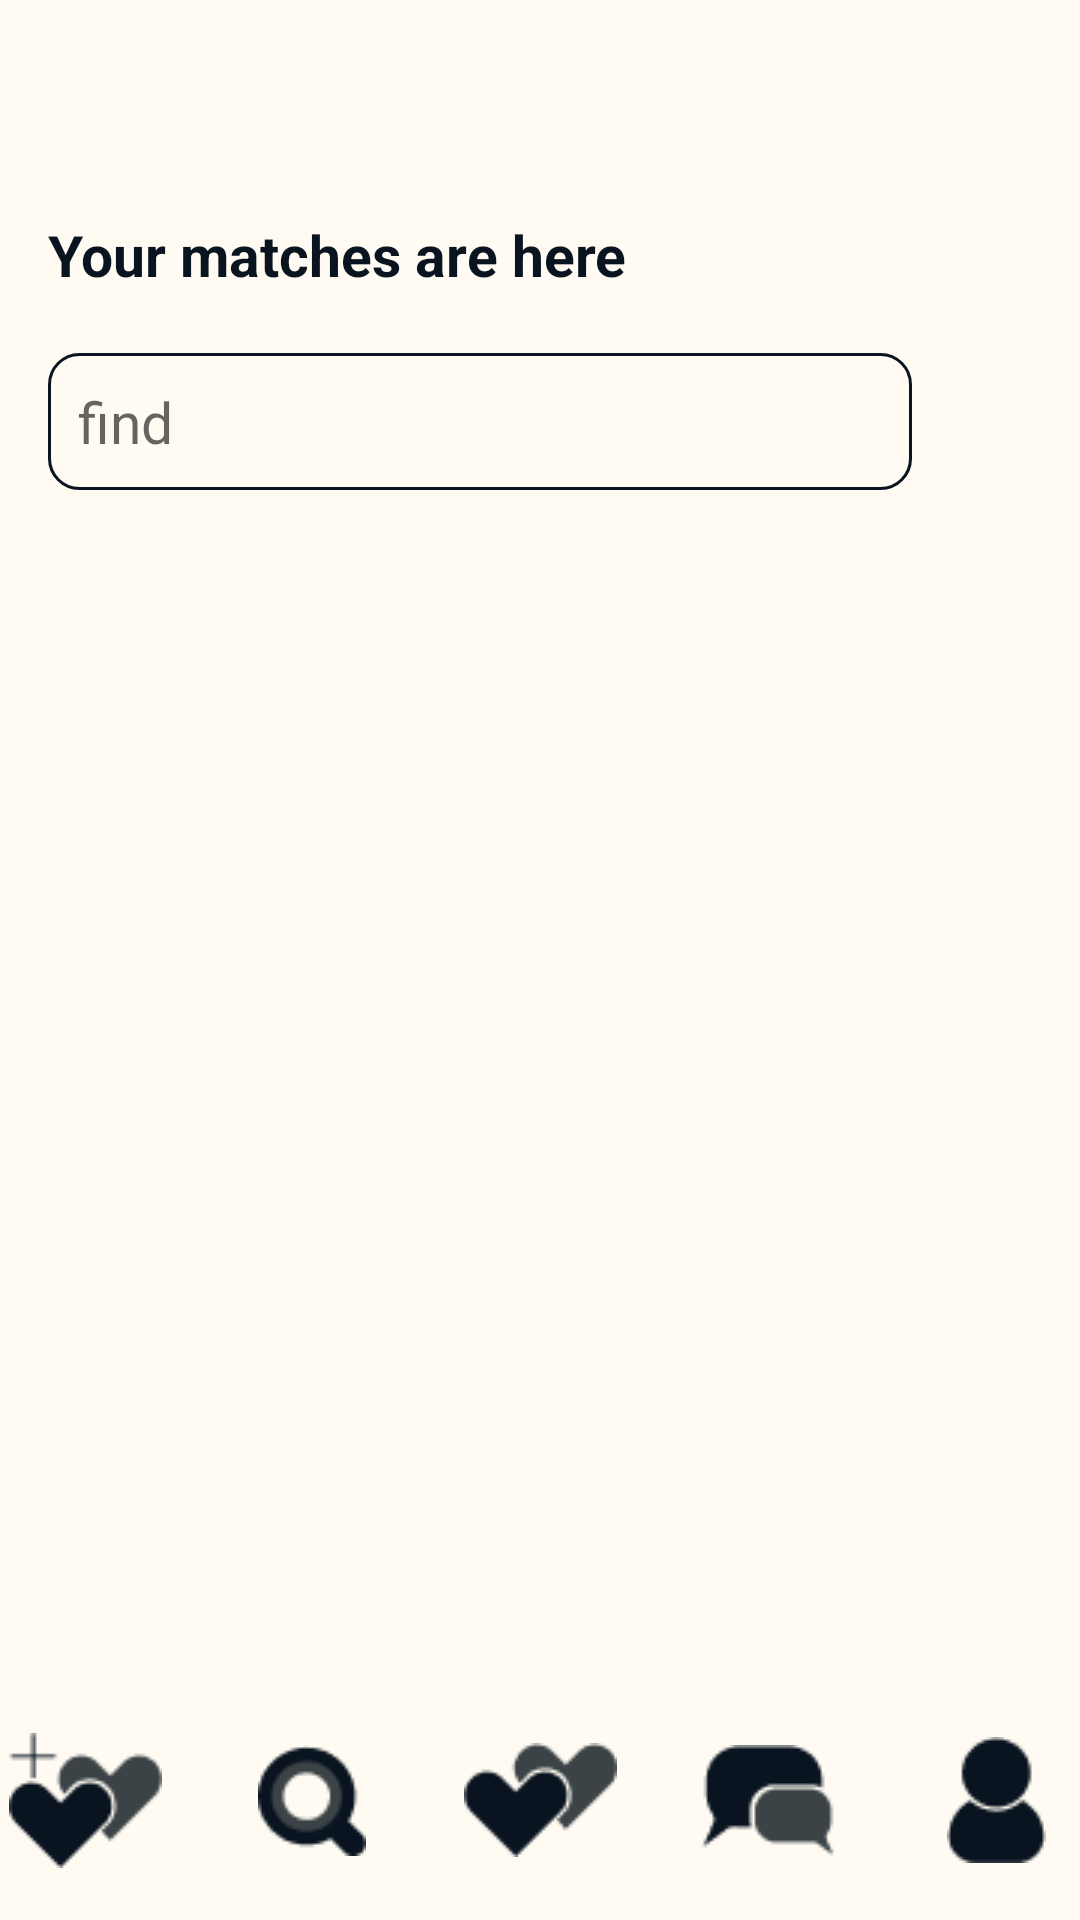

Where icons sit on this 1080px×1920px app screen, as (x1, y1, x2, y2):
add favorites: (9, 1733, 162, 1868)
favorites: (464, 1743, 617, 1857)
message: (703, 1745, 834, 1856)
profile: (947, 1737, 1046, 1863)
search: (258, 1747, 366, 1856)
